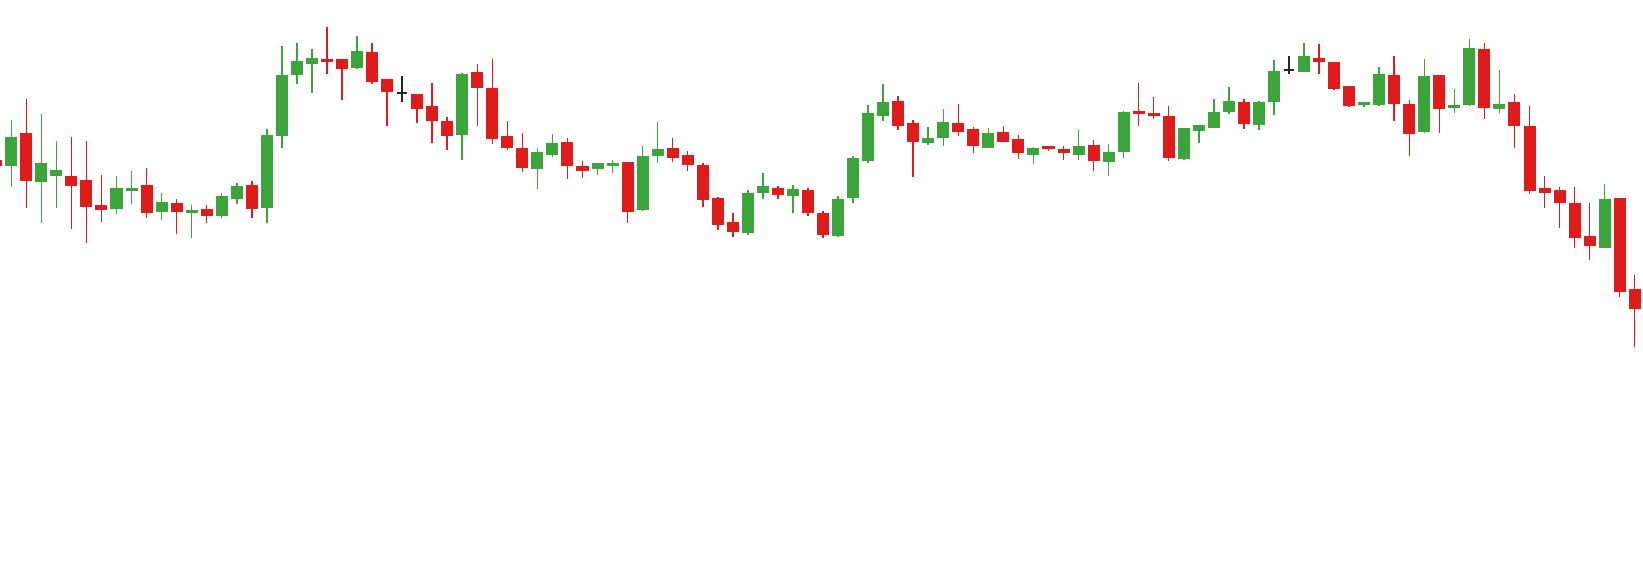buy: (621, 169, 755, 244)
sell: (1387, 39, 1492, 125)
